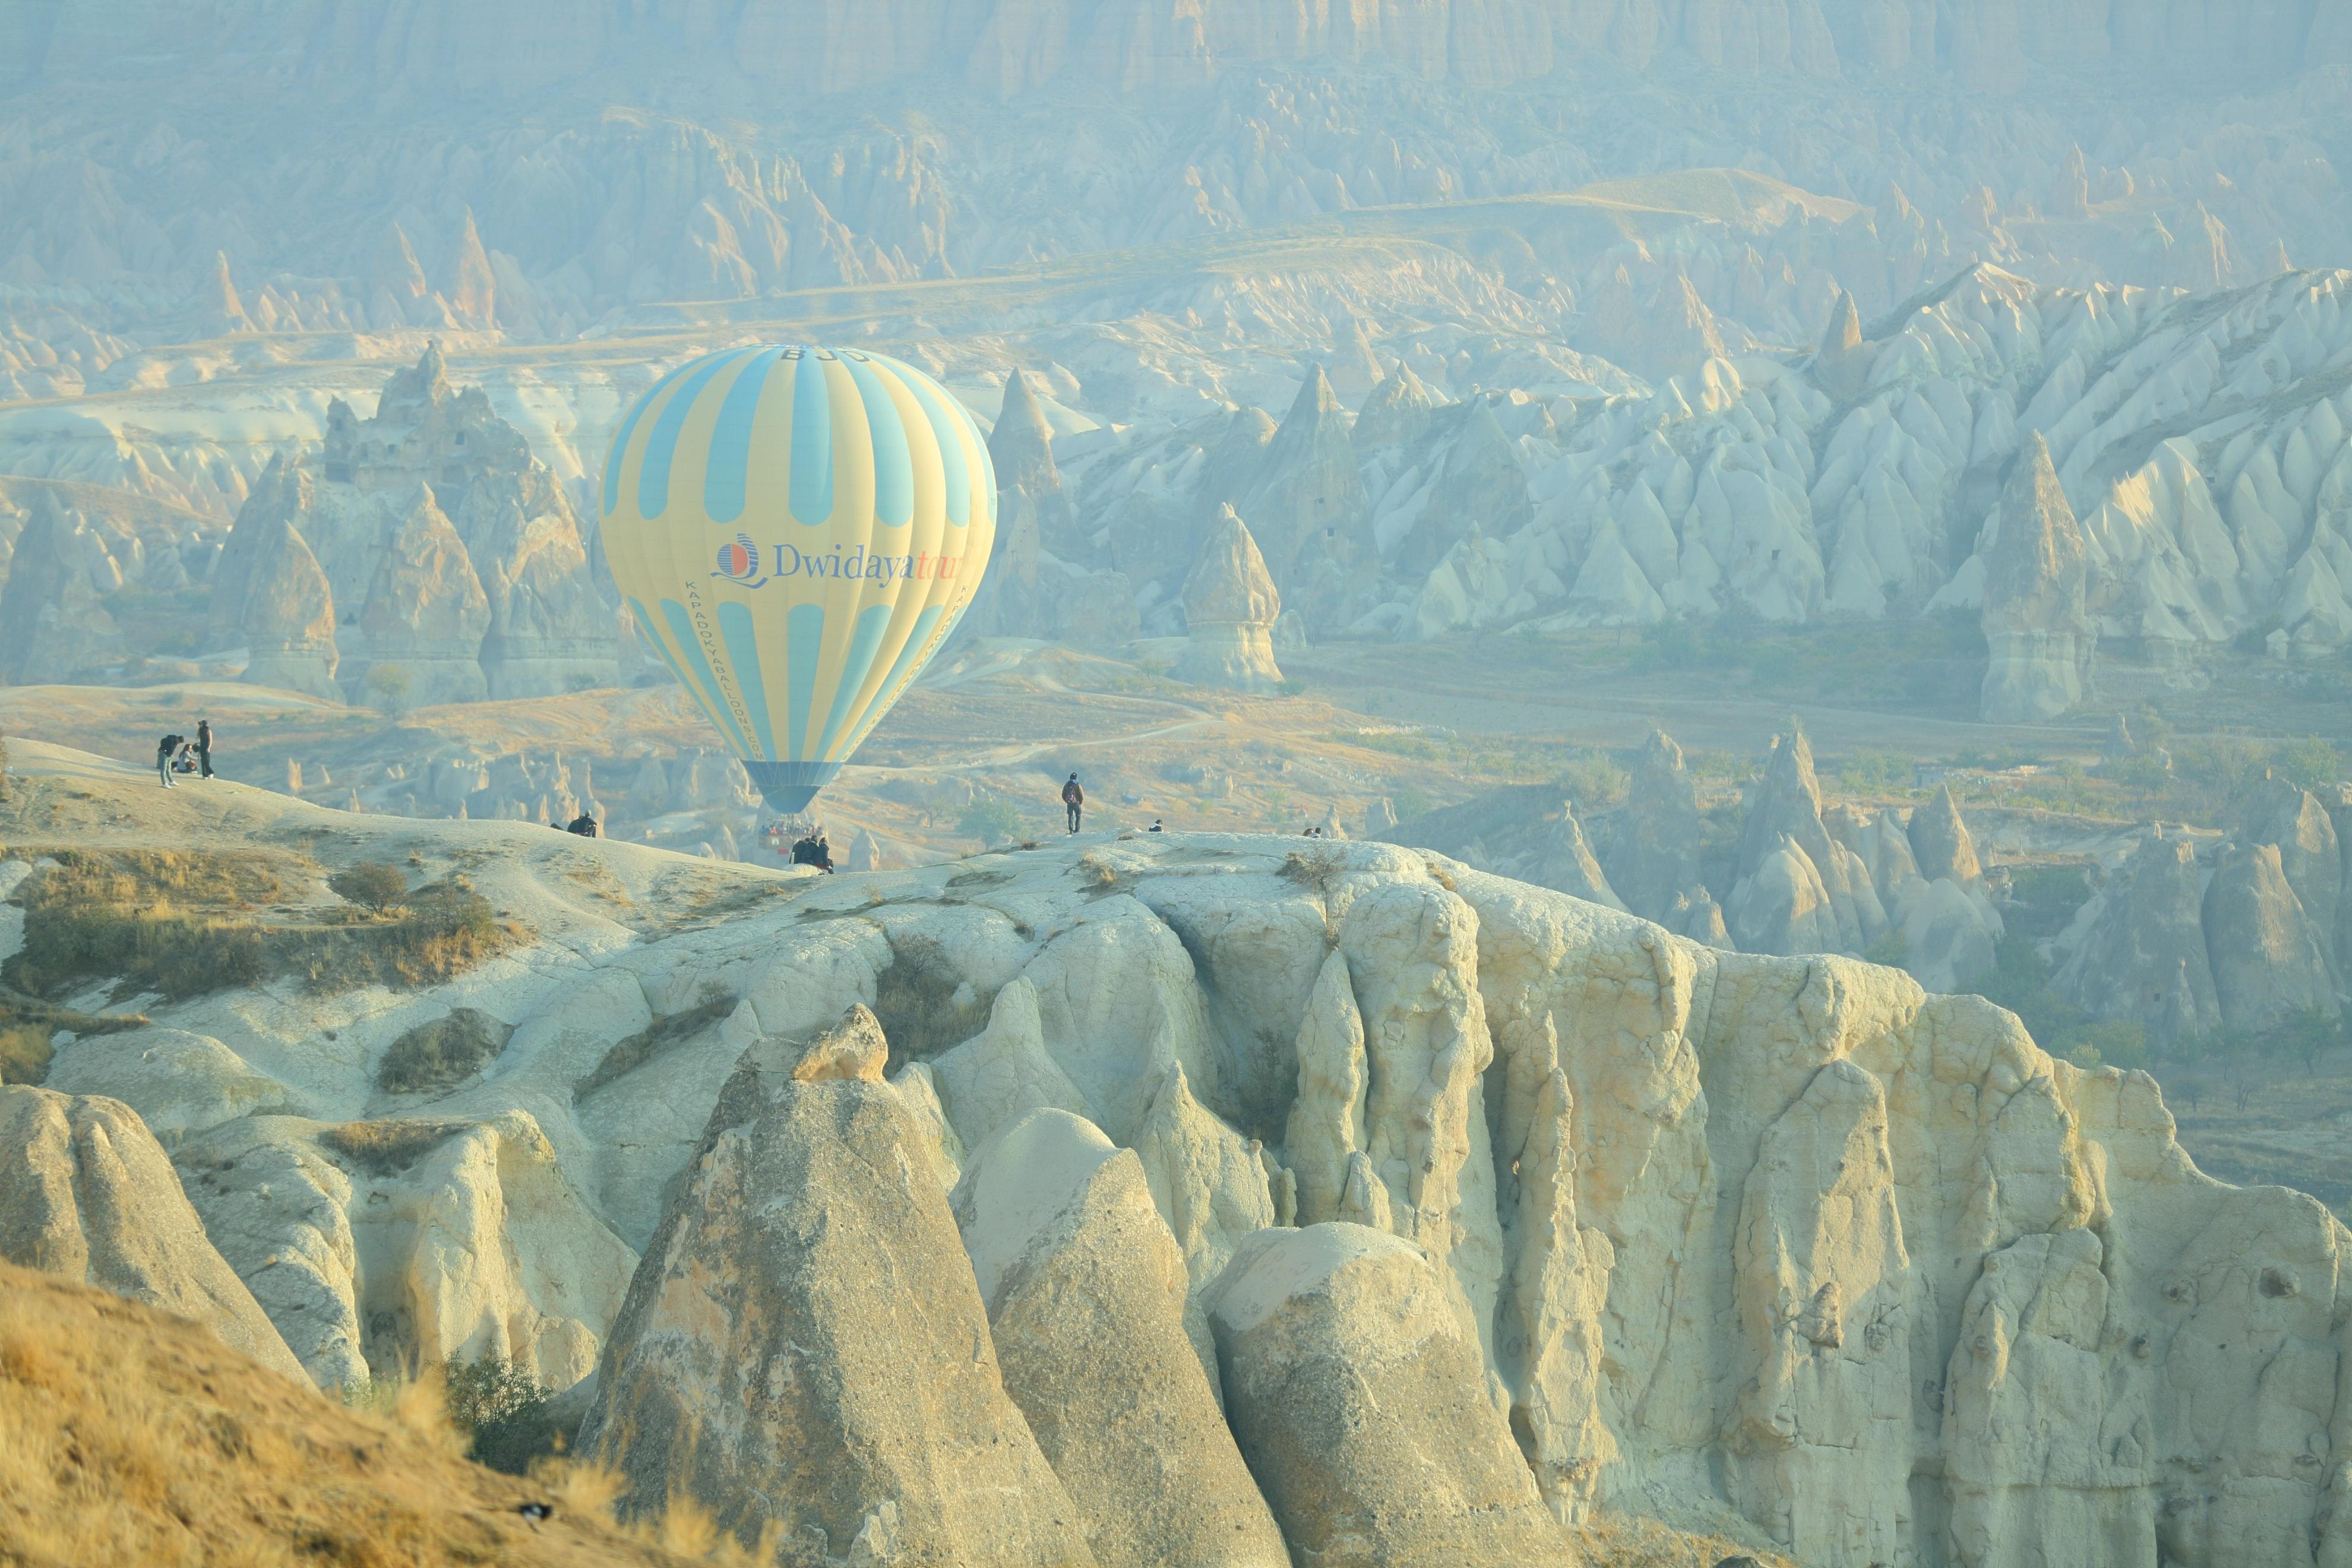hot air ballon: (593, 341, 994, 847)
